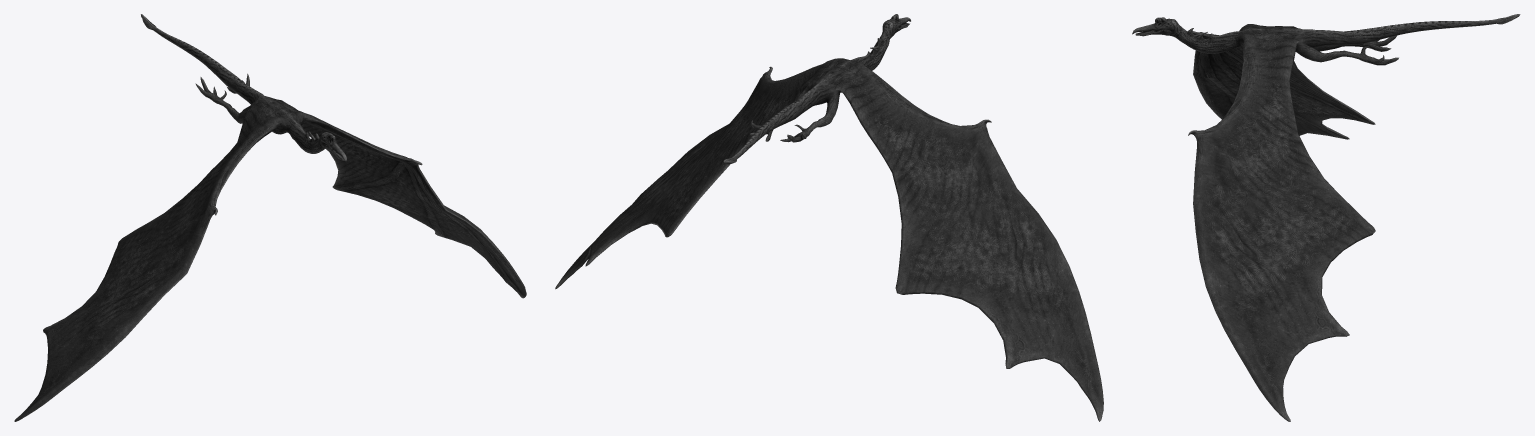
File: Fellbeast_FlyAnim_24.obj
3 renders of one model, left to right at view 1: azimuth 30°, elevation 25°; view 2: azimuth 150°, elevation 25°; view 3: azimuth 270°, elevation 25°, orthographic. The views are drawn at different scales.
Visible parts, largest first — view 1: Fellbeast; view 2: Fellbeast; view 3: Fellbeast.
Boxes of the visible parts, x1,y1,x2,y2 form: Fellbeast: (14, 14, 526, 421); Fellbeast: (555, 14, 1103, 421); Fellbeast: (1132, 14, 1520, 421).
Bounding box in the file's own units: 6.8 × 3.47 × 4.39.
